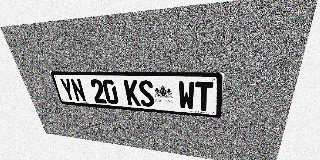0: (102, 79, 119, 104)
2: (89, 79, 107, 104)
K: (123, 80, 141, 106)
N: (70, 78, 87, 102)
S: (138, 80, 155, 107)
T: (195, 81, 213, 111)
W: (178, 81, 195, 110)
Y: (59, 78, 76, 101)
